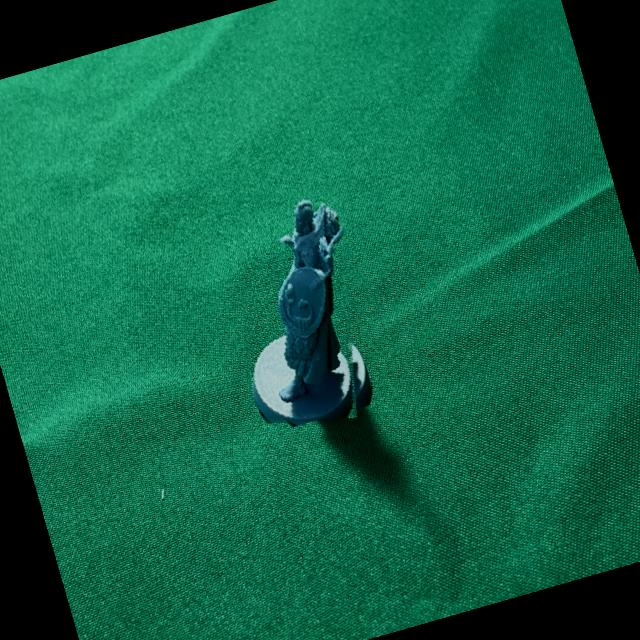isis_follower: (202, 175, 391, 438)
